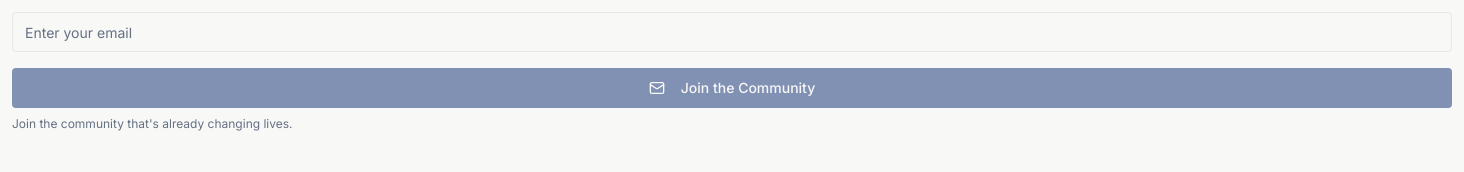
WaitlistForm › button is enabled when email is entered
In the field with placeholder "Enter your email": coordinates (732, 32) [12,12,1452,52], type "test@example.com"
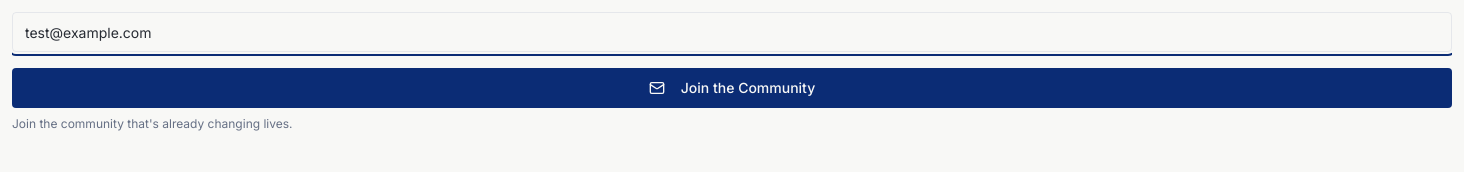
expect the button "Join the Community" is enabled: met, box [12,68,1452,108]
